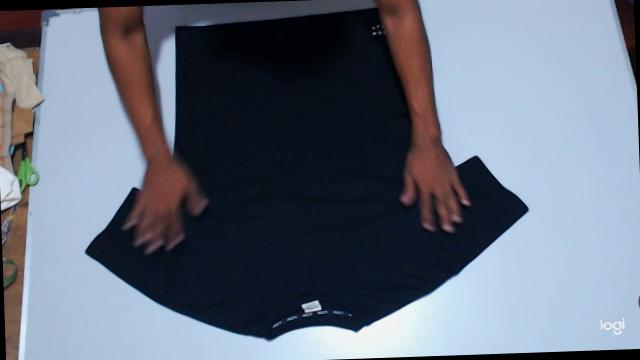new-garment: (87, 9, 527, 338)
